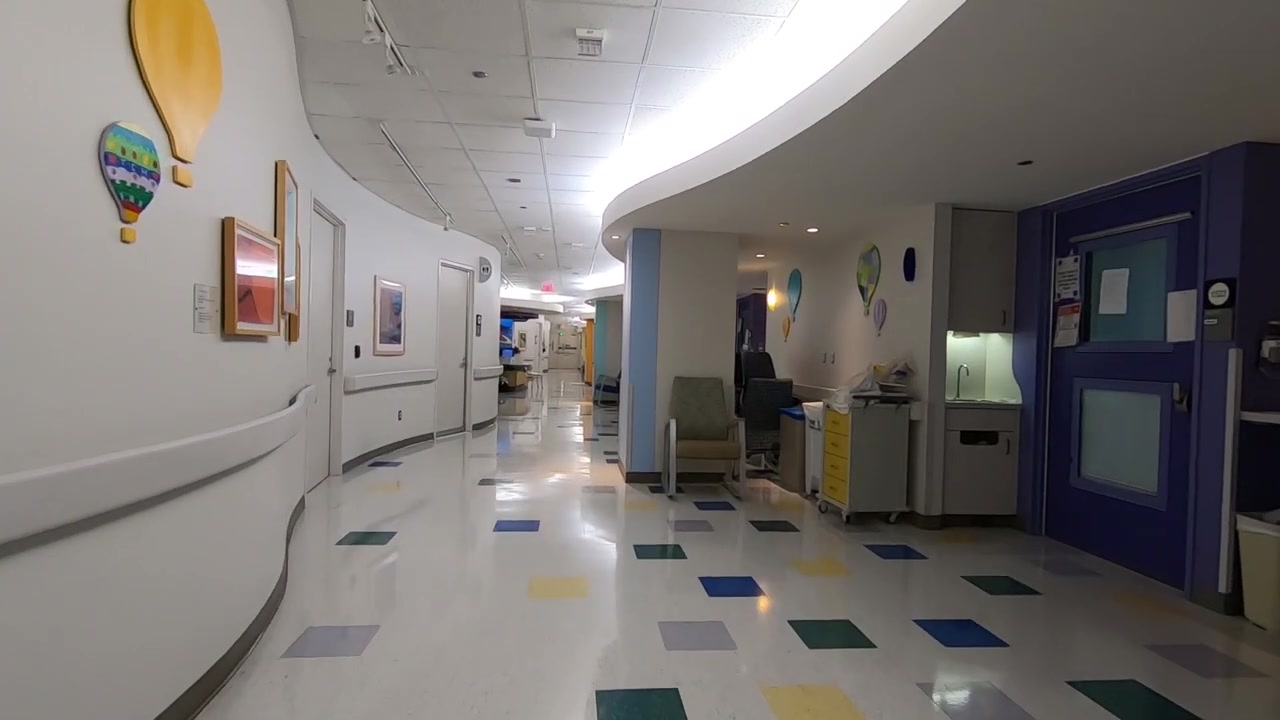cabinet: (949, 207, 1014, 335)
chair: (663, 376, 746, 503), (747, 376, 793, 477), (736, 351, 775, 417)
door_handle: (1168, 380, 1184, 416), (327, 367, 338, 375), (459, 361, 467, 368)
faucet: (951, 363, 972, 399)
hallway_assist_bar: (1, 384, 318, 546), (344, 368, 438, 393)
handle: (1002, 435, 1013, 457), (999, 305, 1009, 328), (829, 439, 840, 449), (827, 463, 839, 471), (830, 419, 841, 427), (827, 485, 837, 493)
medical_drawer: (816, 398, 911, 523)
waste_bin: (945, 395, 1016, 516), (1234, 507, 1280, 634), (778, 408, 803, 491), (801, 401, 822, 499)
